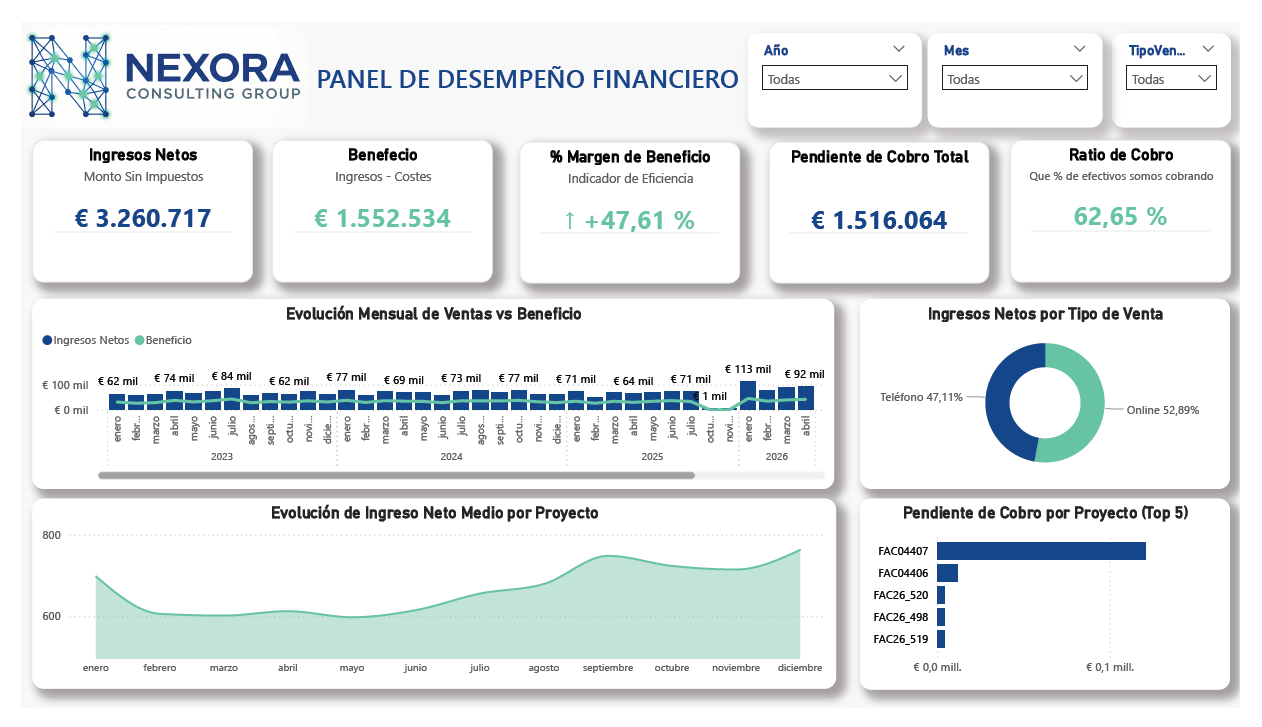

The dashboard page shown, as its layout file describes it:
{"tool":"powerbi","page":{"name":"Financiero","canvas":[1280,720],"ordinal":0},"visuals":[{"type":"textbox","box":[300.5,34.3,462.7,72.7],"z":0},{"type":"image","box":[0,0,300.5,112.5],"z":1000},{"type":"slicer","fields":{"Values":["Calendario.Año"]},"box":[762.6,11.4,183.9,98.4],"z":2000},{"type":"slicer","fields":{"Values":["Factura.TipoVenta"]},"box":[1145.8,11,124.9,98.8],"z":3000},{"type":"slicer","fields":{"Values":["Calendario.Mes"]},"box":[952.3,11,183.9,98.8],"z":4000},{"type":"cardVisual","title":"Ingresos Netos","fields":{"Data":["_Medidas.Ingresos Netos"]},"box":[11,123.5,231.9,149.6],"z":5000},{"type":"cardVisual","title":"Benefecio","fields":{"Data":["_Medidas.Beneficio"]},"box":[263.5,123.5,231.9,149.6],"z":6000},{"type":"cardVisual","title":"% Margen de Beneficio","fields":{"Data":["_Medidas.Margen de Beneficio"]},"box":[522.8,124.9,231.9,149.6],"z":7000},{"type":"cardVisual","title":"Pendiente de Cobro Total","fields":{"Data":["_Medidas.Pendiente de Cobro"]},"box":[784.9,124.9,231.9,149.6],"z":8000},{"type":"cardVisual","title":"Ratio de Cobro","fields":{"Data":["_Medidas.Ratio de Cobro"]},"box":[1038.8,123.5,231.9,149.6],"z":9000},{"type":"lineClusteredColumnComboChart","title":"Evolución Mensual de Ventas vs Beneficio","fields":{"Y":["_Medidas.Ingresos Netos"],"Y2":["_Medidas.Beneficio"],"Category":["Calendario.Date.Variación.Jerarquía de fechas.Año","Calendario.Date.Variación.Jerarquía de fechas.Mes"]},"box":[11.4,290,842.9,200],"z":10000},{"type":"donutChart","title":"Ingresos Netos por Tipo de Venta","fields":{"Category":["Factura.TipoVenta"],"Y":["_Medidas.Ingresos Netos"]},"box":[880.9,289.8,389.3,200.4],"z":11000},{"type":"areaChart","title":"Evolución de Ingreso Neto Medio por Proyecto","fields":{"Y":["_Medidas.Ingreso Neto Medio"],"Category":["Calendario.Date.Variación.Jerarquía de fechas.Año","Calendario.Date.Variación.Jerarquía de fechas.Trimestre","Calendario.Date.Variación.Jerarquía de fechas.Mes","Calendario.Date.Variación.Jerarquía de fechas.Día"]},"box":[11,500,845,200],"z":12000},{"type":"clusteredBarChart","title":"Pendiente de Cobro por Proyecto (Top 5)","fields":{"Category":["Factura.CodFactura"],"Y":["_Medidas.Pendiente de Cobro"]},"box":[880.9,500.3,389.3,200.4],"z":13000}]}

Visuals, with their boxes in screenshot pixels (x1, y1, x2, y2), scaled from the page's 1280x720 canvas onto the 1262x727 screenshot:
textbox: x1=296 y1=35 x2=752 y2=108
image: x1=0 y1=0 x2=296 y2=114
slicer - Calendario.Año: x1=752 y1=12 x2=933 y2=111
slicer - Factura.TipoVenta: x1=1130 y1=11 x2=1253 y2=111
slicer - Calendario.Mes: x1=939 y1=11 x2=1120 y2=111
"Ingresos Netos" cardVisual: x1=11 y1=125 x2=239 y2=276
"Benefecio" cardVisual: x1=260 y1=125 x2=488 y2=276
"% Margen de Beneficio" cardVisual: x1=515 y1=126 x2=744 y2=277
"Pendiente de Cobro Total" cardVisual: x1=774 y1=126 x2=1003 y2=277
"Ratio de Cobro" cardVisual: x1=1024 y1=125 x2=1253 y2=276
"Evolución Mensual de Ventas vs Beneficio" lineClusteredColumnComboChart: x1=11 y1=293 x2=842 y2=495
"Ingresos Netos por Tipo de Venta" donutChart: x1=869 y1=293 x2=1252 y2=495
"Evolución de Ingreso Neto Medio por Proyecto" areaChart: x1=11 y1=505 x2=844 y2=707
"Pendiente de Cobro por Proyecto (Top 5)" clusteredBarChart: x1=869 y1=505 x2=1252 y2=708
